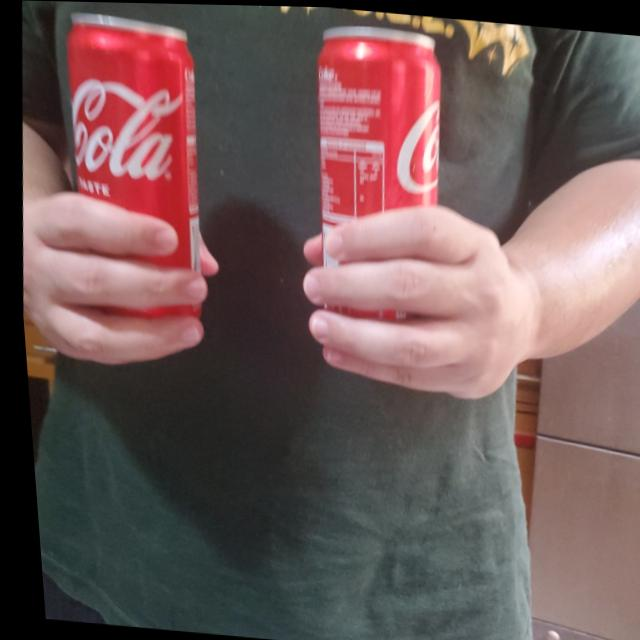coke: (45, 14, 221, 321), (306, 19, 461, 266)
